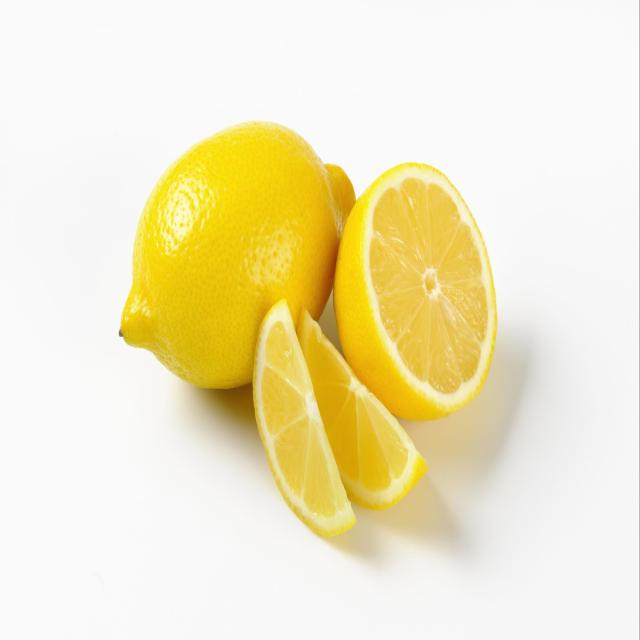lemon: (113, 115, 360, 400), (329, 158, 501, 423)
